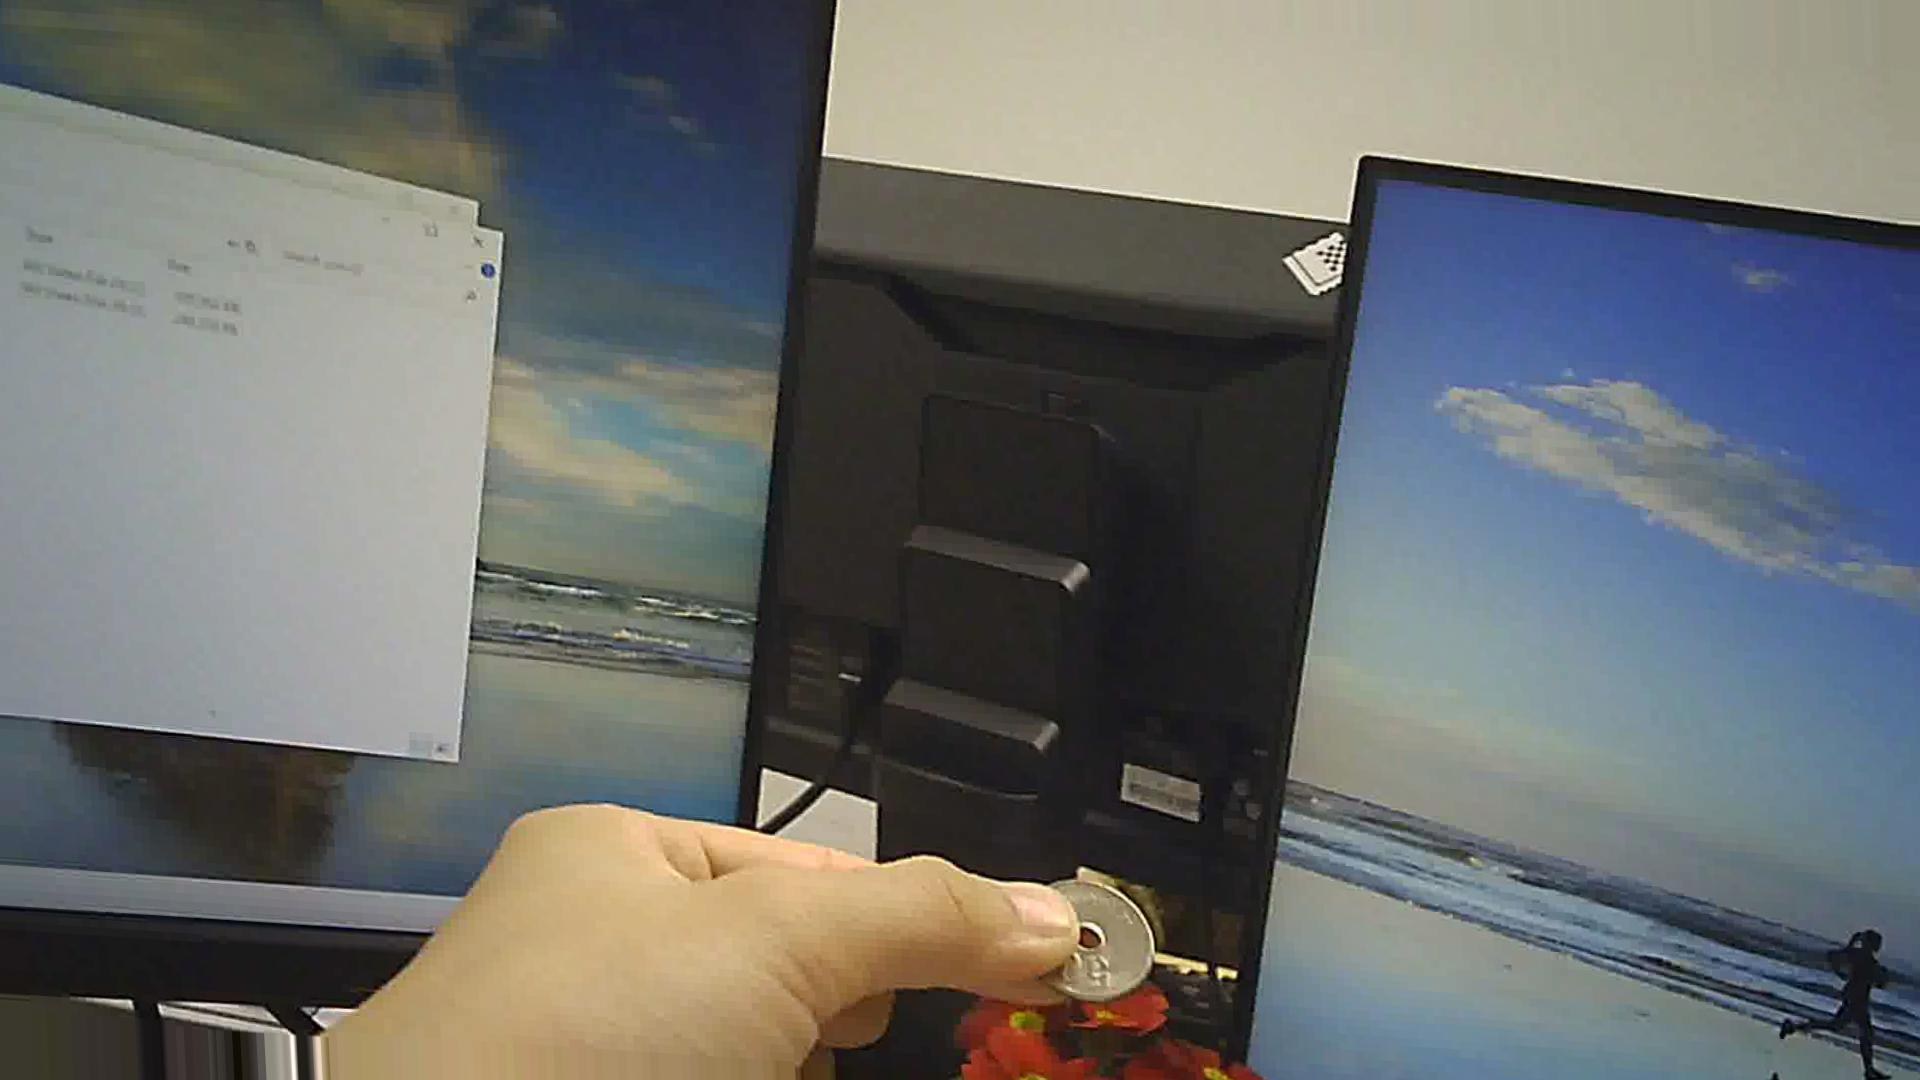50 Yen: (1009, 866, 1167, 1000)
